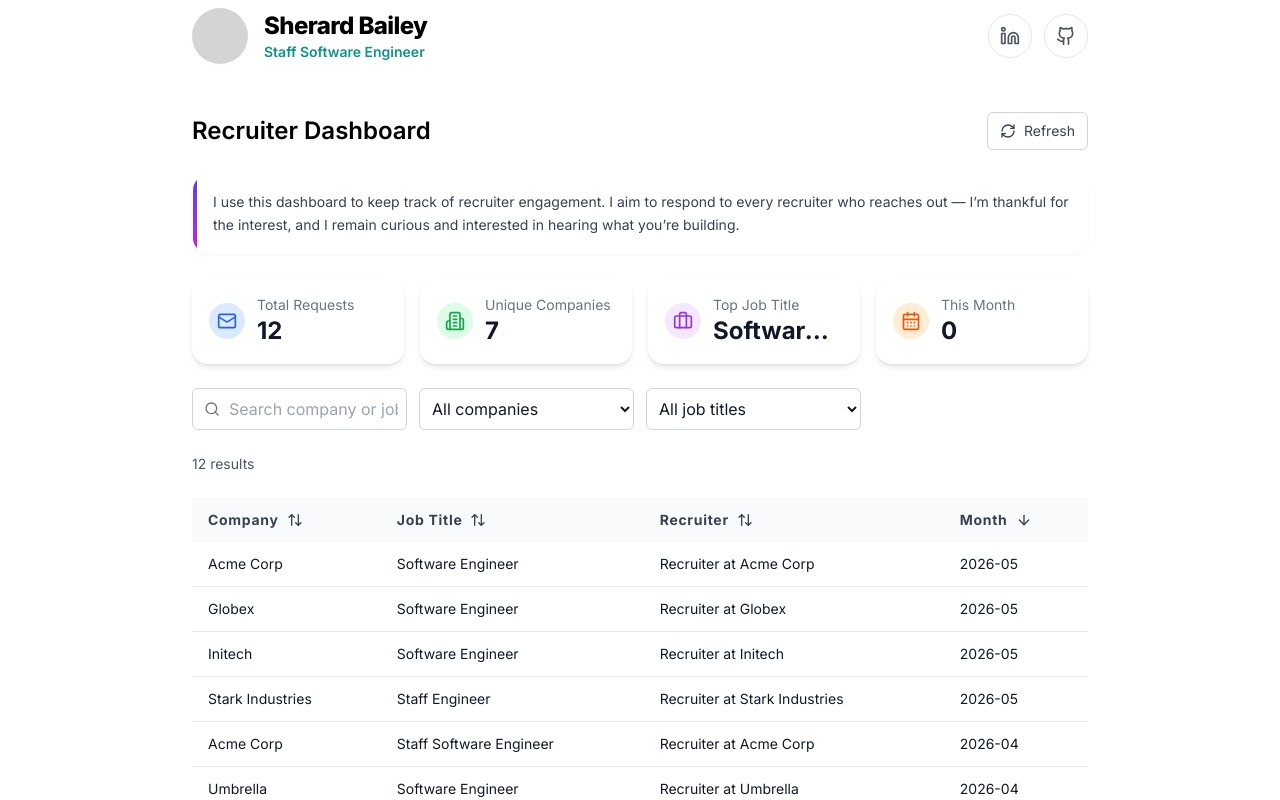
Test: DashboardPage (integration) › refetches data when Refresh is clicked
Expected: the text "Refreshed Co" is not shown
Step 1. Click the button "Refresh" → coordinates (1038, 131), box x1=987 y1=112 x2=1088 y2=150
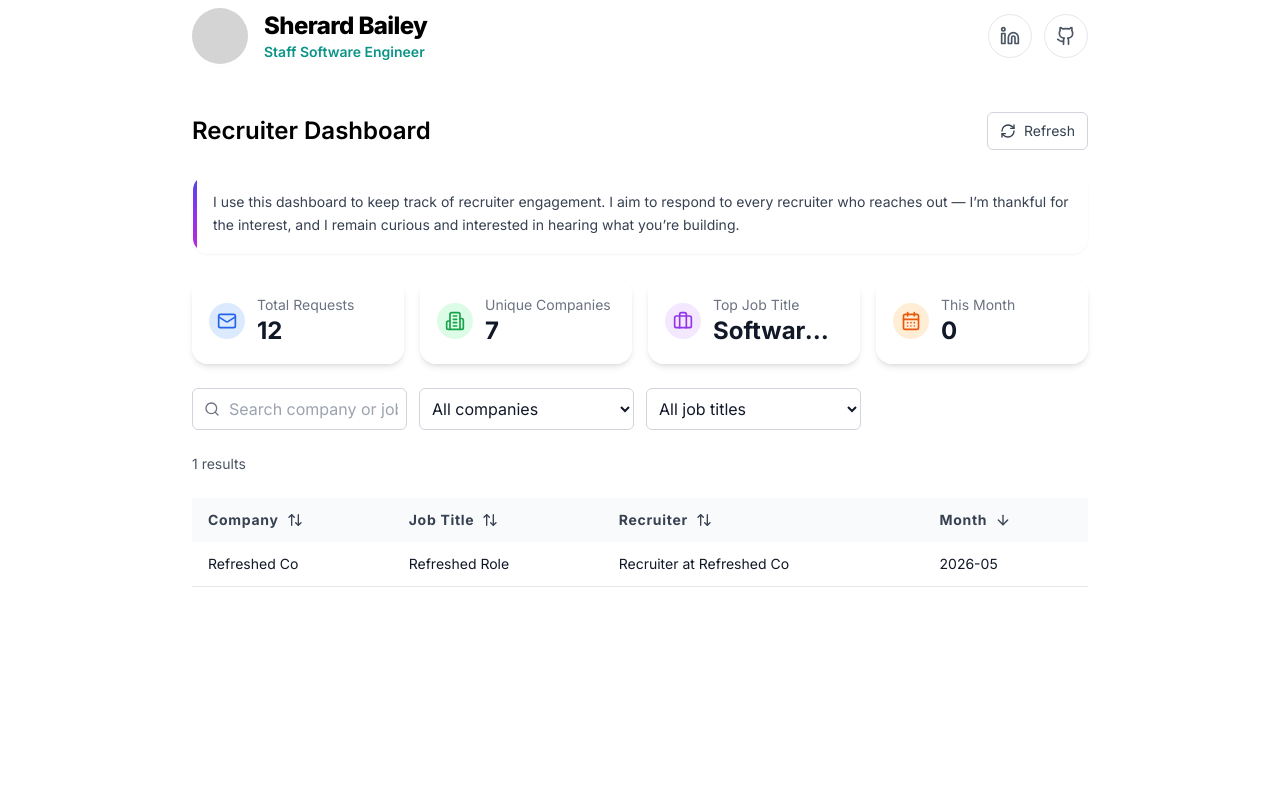
Result: the text "Refreshed Co" is shown at x1=192 y1=542 x2=393 y2=586
